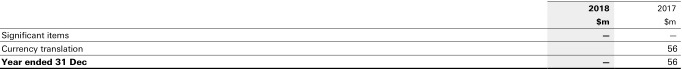column: (1, 2, 88, 68), (589, 2, 611, 69), (657, 2, 678, 69)
row: (1, 32, 682, 40), (1, 58, 682, 66), (1, 3, 681, 11), (2, 18, 682, 26), (1, 44, 682, 51)
